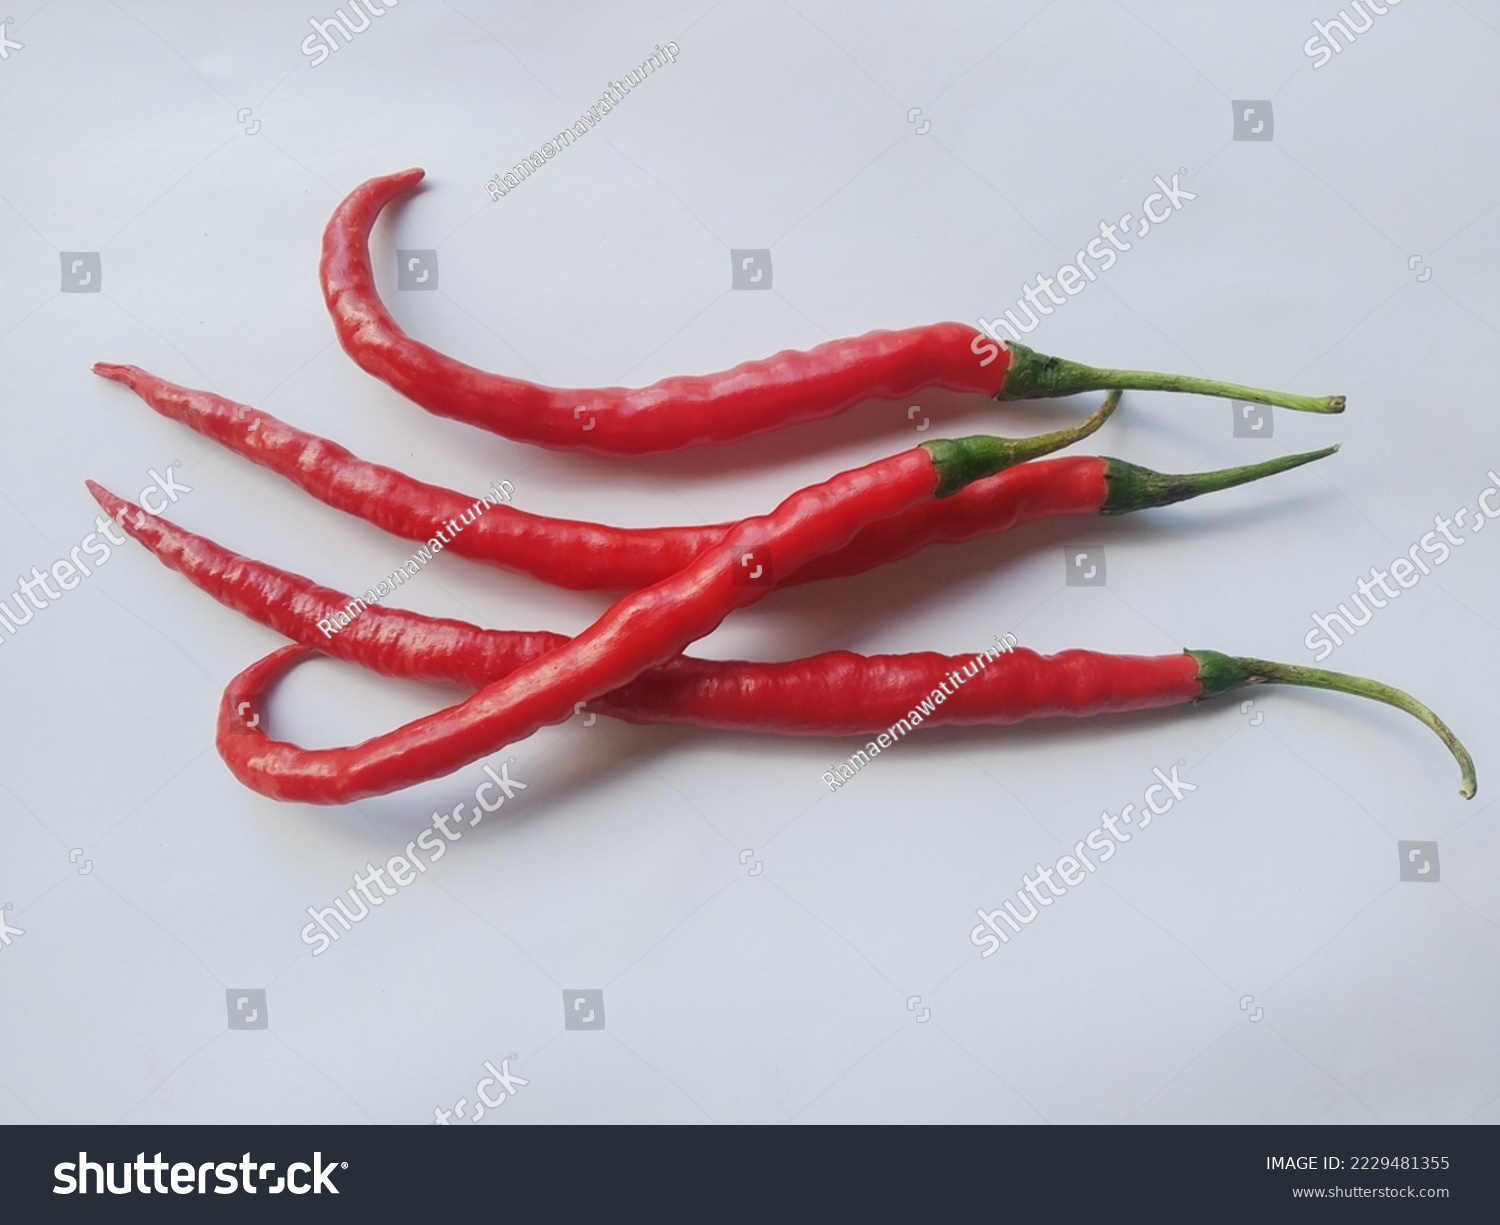Cabai: (66, 116, 1473, 960)
